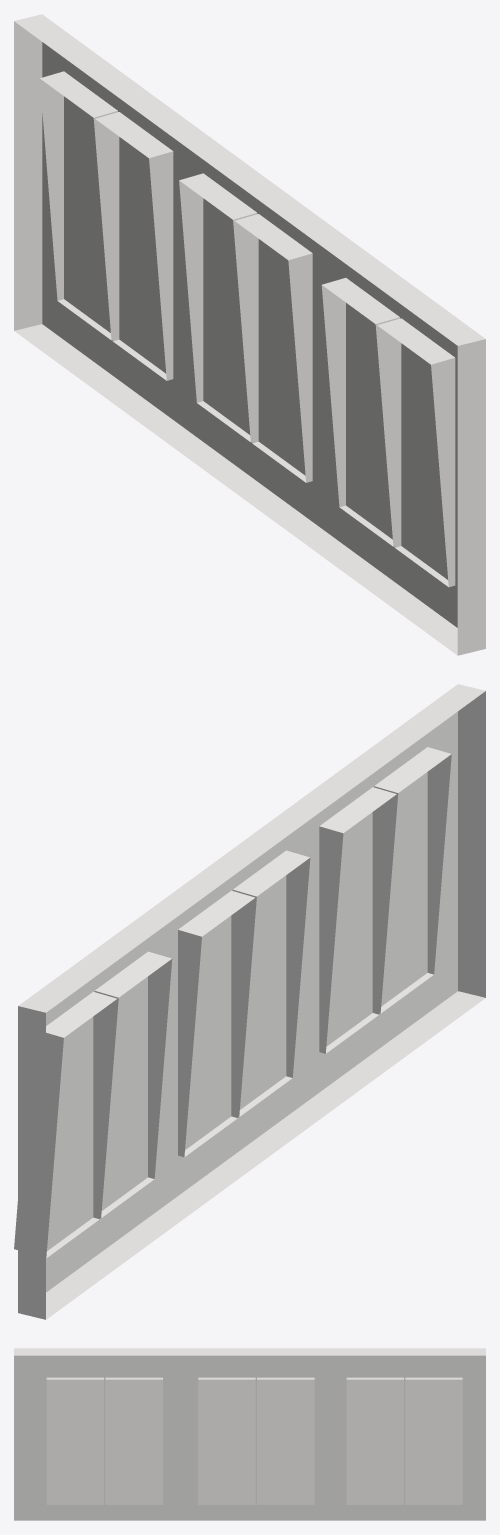
File: Living_Room_switch.fbx
3 renders of one model, top to bottom at view 1: azimuth 30°, elevation 25°; view 2: azimuth 150°, elevation 25°; view 3: azimuth 270°, elevation 25°, orthographic. The views are drawn at different scales.
Parts seen in each view (by area): view 1: Living_Room_switch; view 2: Living_Room_switch; view 3: Living_Room_switch.
Boxes of the visible parts, x1=… form: Living_Room_switch: x1=14, y1=14, x2=485, y2=655; Living_Room_switch: x1=14, y1=684, x2=485, y2=1319; Living_Room_switch: x1=14, y1=1348, x2=485, y2=1520.
Bounding box in the file's own units: 3.34 × 18.23 × 47.34.
